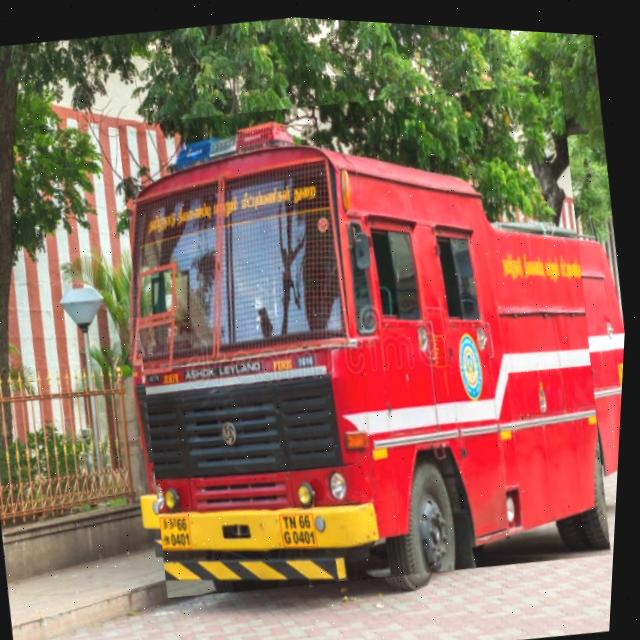Fire Truck: (100, 54, 637, 617)
